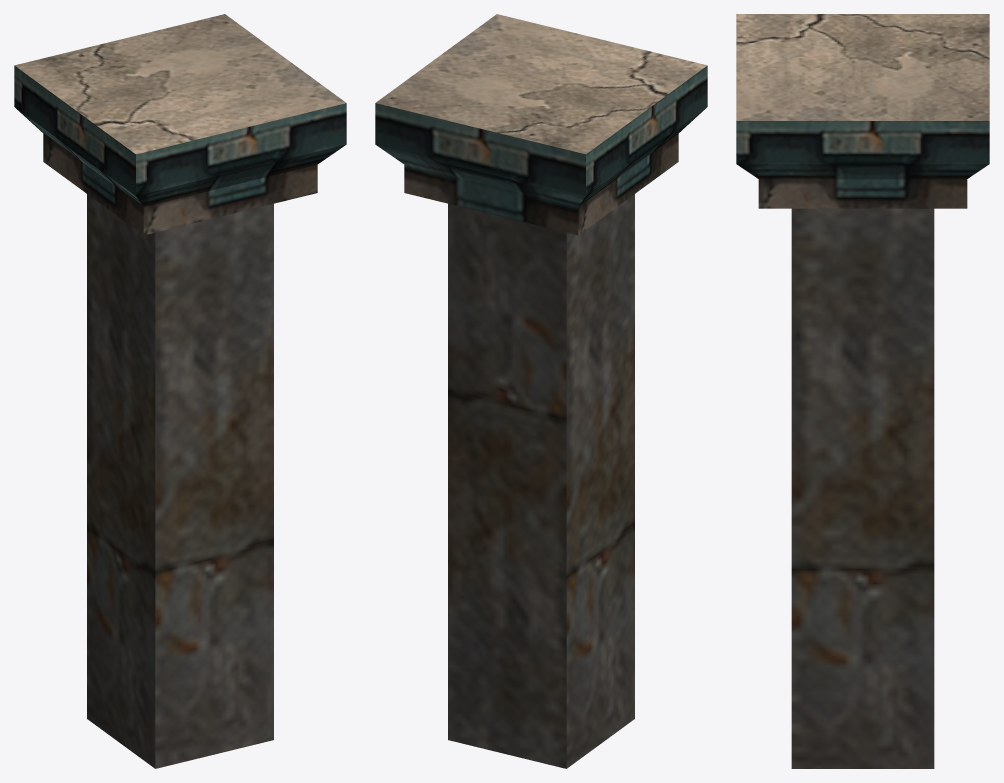
Rendered from column_concrete_3.fbx.
3 renders of one model, left to right at view 1: azimuth 30°, elevation 25°; view 2: azimuth 150°, elevation 25°; view 3: azimuth 270°, elevation 25°, orthographic. The views are drawn at different scales.
Visible parts, largest first — view 1: column_concrete_3; view 2: column_concrete_3; view 3: column_concrete_3.
Part boxes in pixels (x1,y1,x2,y2): column_concrete_3: [14, 14, 346, 768]; column_concrete_3: [375, 14, 707, 768]; column_concrete_3: [736, 14, 989, 768].
Size of the model in its own units: 1.25 by 3.64 by 1.25.
